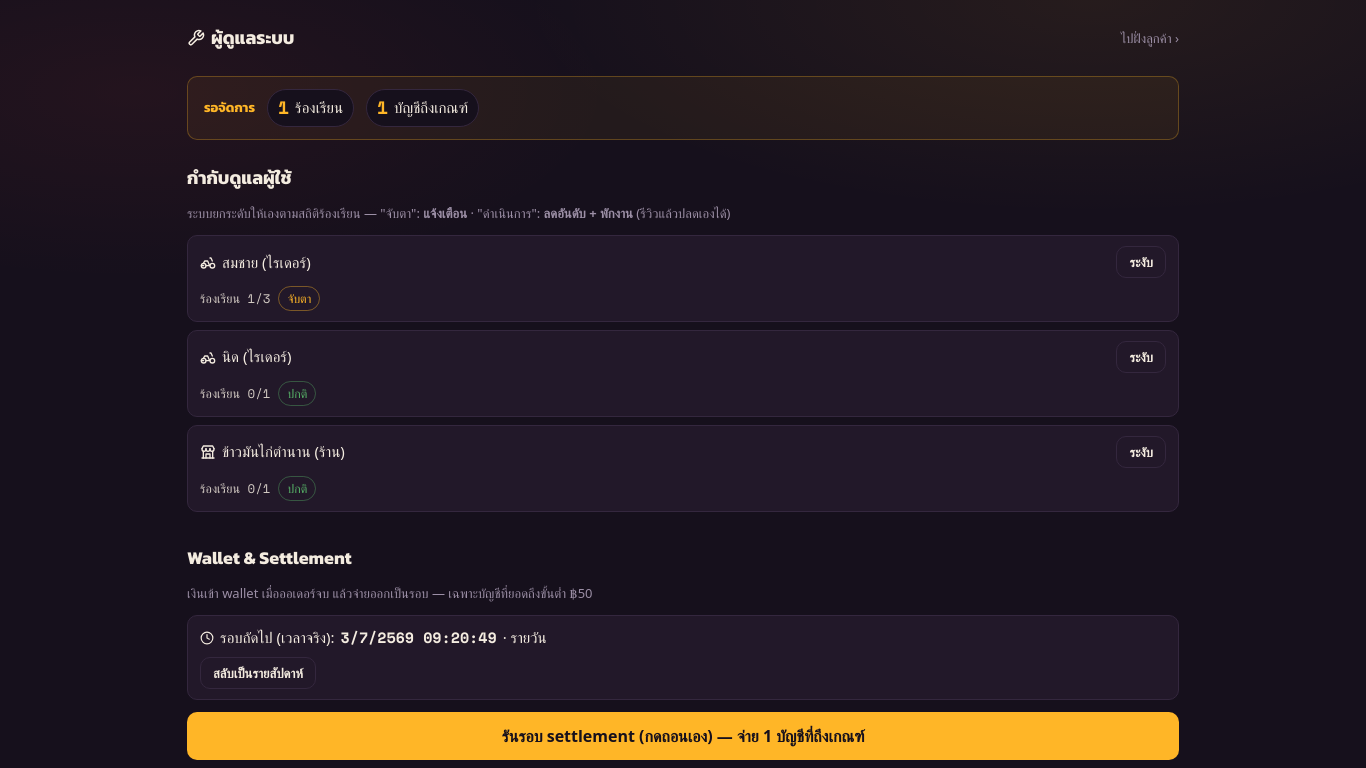
it: Admin — หลายออเดอร์ + suspend + force-cancel › suspend: ระงับไรเดอร์ → ขึ้นป้าย "พักงาน" และปุ่มเปลี่ยนเป็นปลดระงับ
Step 1. Click the button with aria-label "ระงับ สมชาย (ไรเดอร์)" → point(1141, 262), box [1116,246,1166,278]
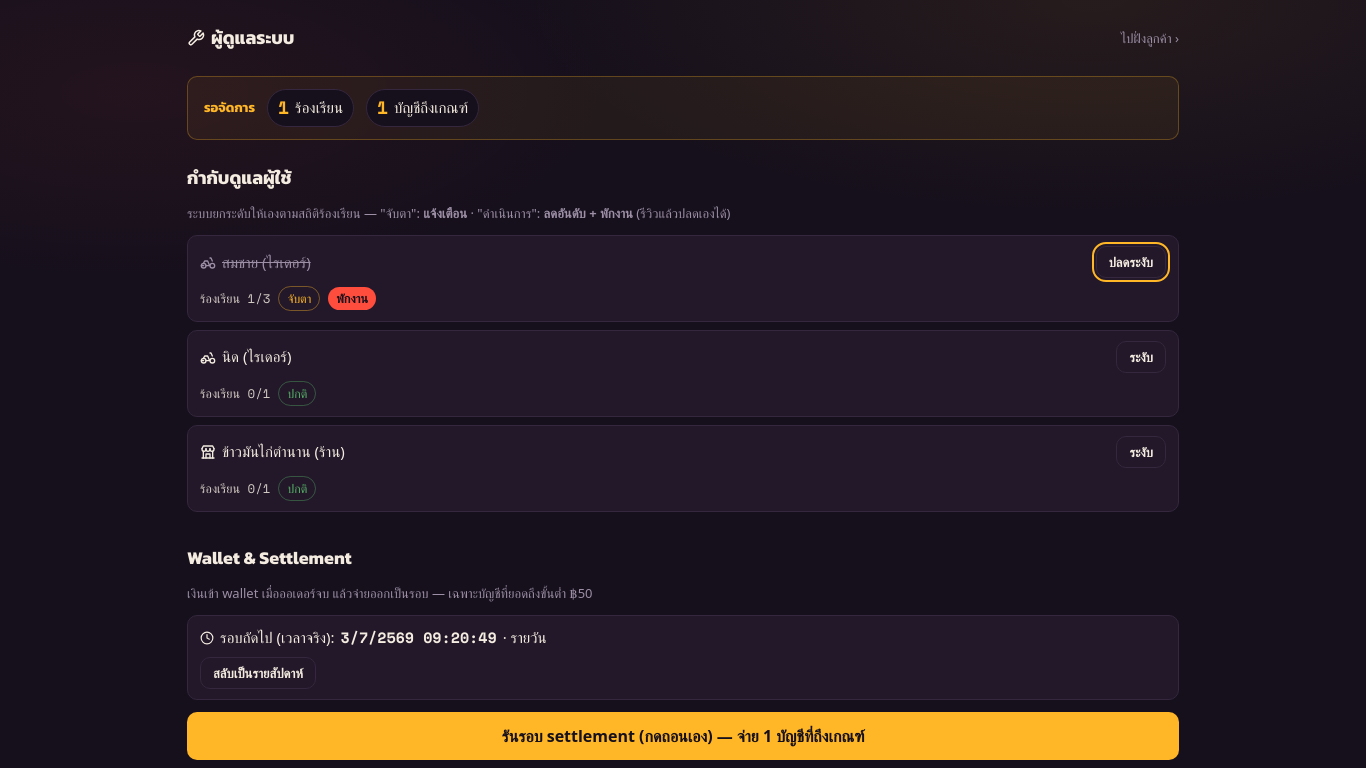
Now the text "พักงาน" is shown, box [328,287,376,310]
Now the button with aria-label "ปลดระงับ สมชาย (ไรเดอร์)" is shown, box [1096,246,1166,278]
